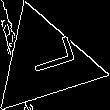L_W: (15, 39, 74, 84)
